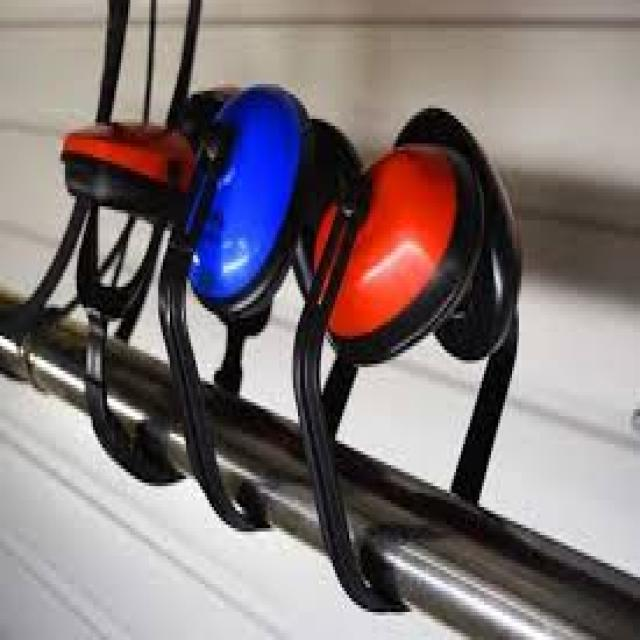Ear-Protection: (308, 143, 480, 374), (170, 84, 309, 318), (60, 120, 186, 252)
